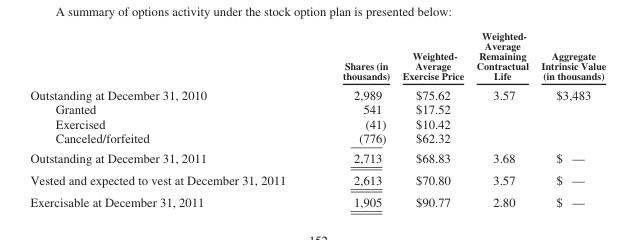table: (29, 29, 605, 208)
table column: (29, 29, 313, 208), (313, 29, 395, 208), (395, 29, 469, 208), (534, 29, 605, 208), (469, 29, 534, 208)
table column header: (29, 29, 605, 84)
table row: (29, 29, 605, 84), (29, 168, 605, 190), (29, 147, 605, 168), (29, 190, 605, 208), (29, 84, 605, 101), (29, 130, 605, 147), (29, 101, 605, 116), (29, 116, 605, 130)
